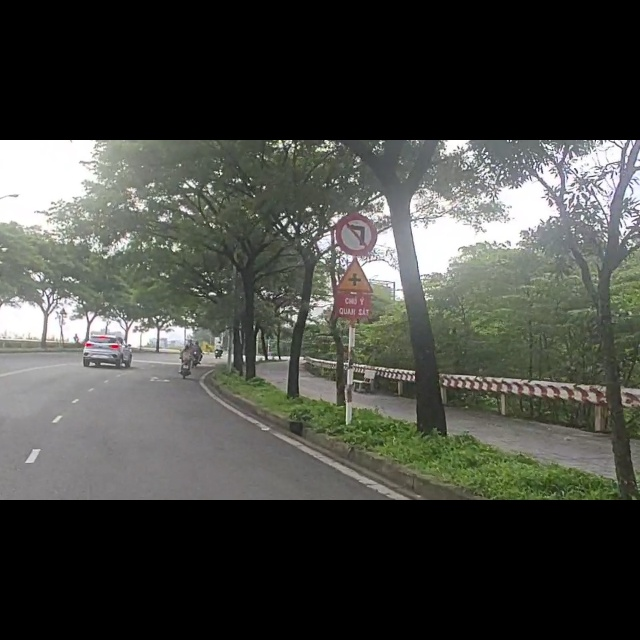bien_cam: (330, 124, 388, 210), (333, 206, 380, 273)
